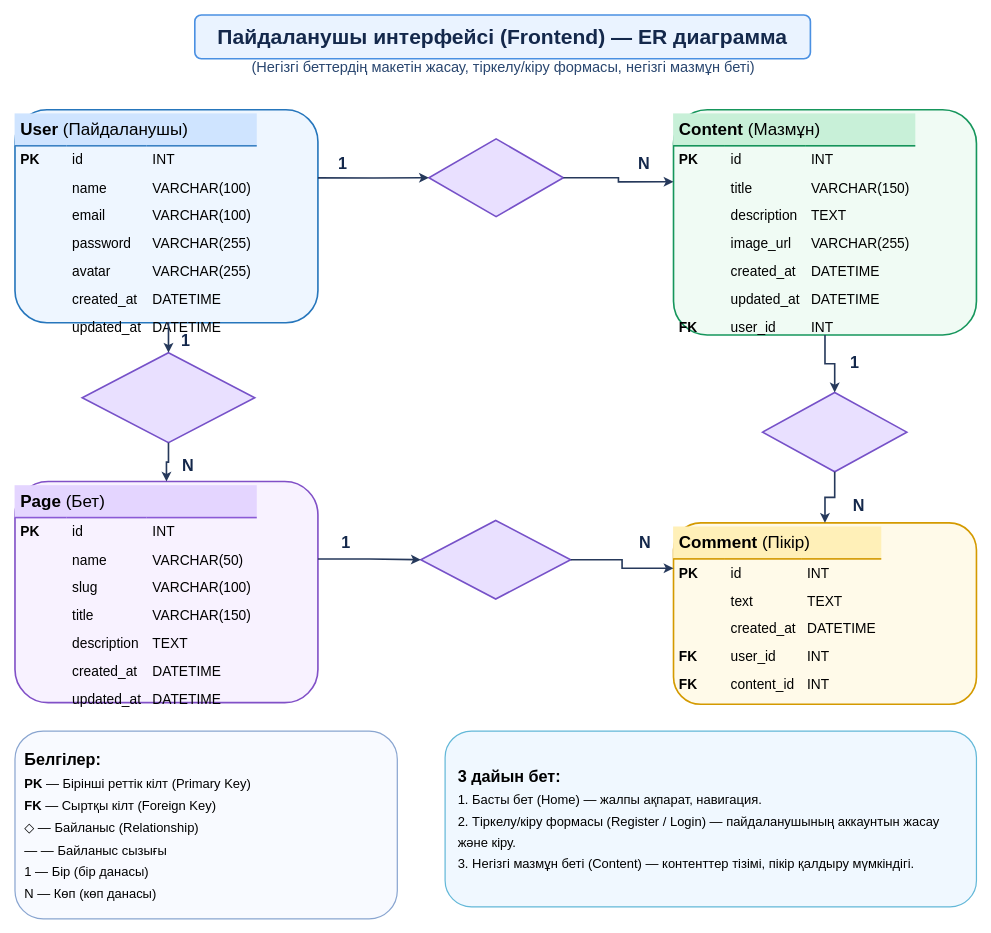
This 991x933 diagram has some shape labels left out. The shapes that lost their labels are listed below. From the top down, each one's centre as x and y in pixels, then its label:
the point at 496,177: автор (жазады)
the point at 168,397: қолданады (кіреді / тіркеледі)
the point at 834,431: жазады
the point at 495,559: қамтиды (бар)
